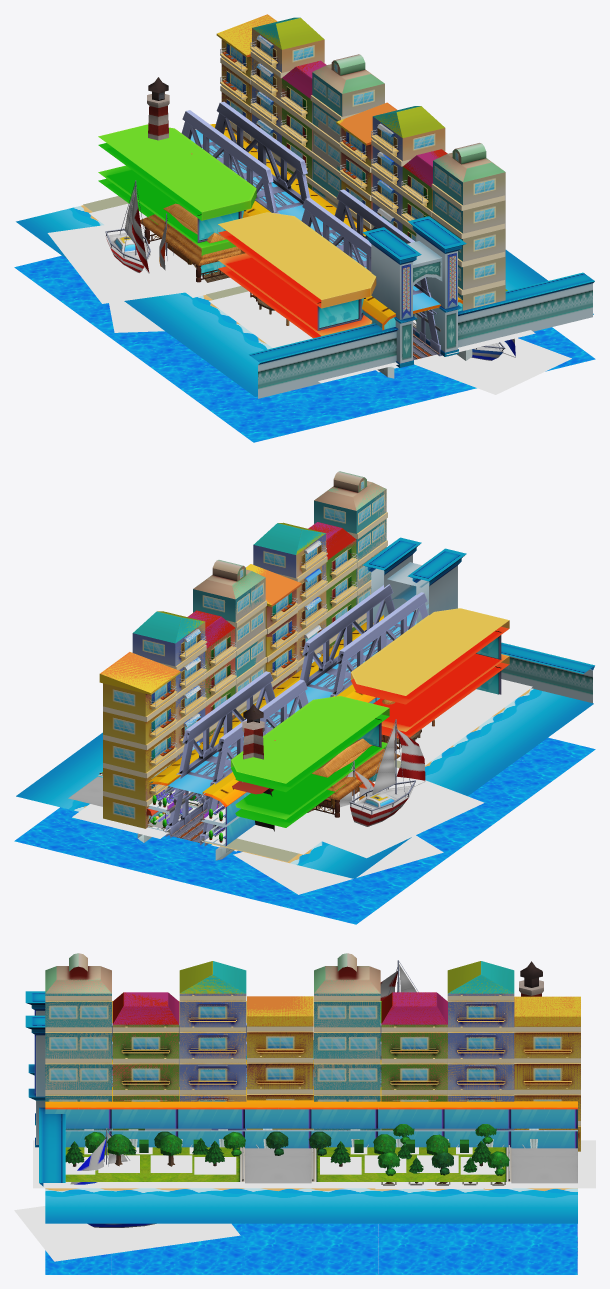
Rendered from TerrainA.FBX.
3 renders of one model, top to bottom at view 1: azimuth 30°, elevation 25°; view 2: azimuth 150°, elevation 25°; view 3: azimuth 270°, elevation 25°, orthographic. The views are drawn at different scales.
Visible parts, largest first — view 1: Store, RightSide03, ArchWall, RightSide02, WaterSurface, Bridge01, BaseRoad, RedBoat, SeaBoat01, Station, Restaurant01, Lighthouse; view 2: RightSide02, Store, WaterSurface, RightSide03, Bridge01, BaseRoad, RedBoat, ArchWall, Station, SeaBoat01, Restaurant01, Lighthouse (+1 smaller); view 3: RightSide02, RightSide03, WaterSurface, Station, BaseRoad, Park, SeaBoat01, RightSide04, ArchWall, RedBoat, Lighthouse, Bridge02.
Part boxes in pixels (box(x1,y1,x2,y2)): Store: box(83, 124, 398, 383); RightSide03: box(219, 14, 505, 310); ArchWall: box(248, 216, 594, 398); RightSide02: box(216, 14, 535, 354); WaterSurface: box(14, 255, 595, 442); Bridge01: box(181, 101, 442, 359); BaseRoad: box(16, 205, 593, 396); RedBoat: box(47, 180, 211, 303); SeaBoat01: box(109, 213, 571, 394); Station: box(190, 124, 462, 331); Restaurant01: box(140, 203, 240, 297); Lighthouse: box(147, 77, 169, 140); RightSide02: box(72, 472, 387, 838); Store: box(201, 608, 532, 861); WaterSurface: box(14, 737, 595, 924); RightSide03: box(100, 471, 387, 828); Bridge01: box(165, 584, 428, 845); BaseRoad: box(16, 688, 593, 878); RedBoat: box(287, 719, 484, 858); ArchWall: box(362, 537, 594, 703); Station: box(147, 612, 416, 846); SeaBoat01: box(233, 761, 443, 894); Restaurant01: box(307, 738, 400, 817); Lighthouse: box(232, 704, 274, 831); RightSide02: box(33, 953, 594, 1188); RightSide03: box(45, 953, 580, 1151); WaterSurface: box(45, 1223, 577, 1274); Station: box(45, 1059, 577, 1148); BaseRoad: box(45, 1040, 577, 1223); Park: box(65, 1134, 577, 1183); SeaBoat01: box(14, 1128, 240, 1261); RightSide04: box(84, 1124, 512, 1189); ArchWall: box(25, 991, 65, 1186); RedBoat: box(380, 960, 418, 1000); Lighthouse: box(519, 961, 543, 996); Bridge02: box(84, 1128, 538, 1148).
Size of the model in its own units: 17462 by 11032 by 21855.
